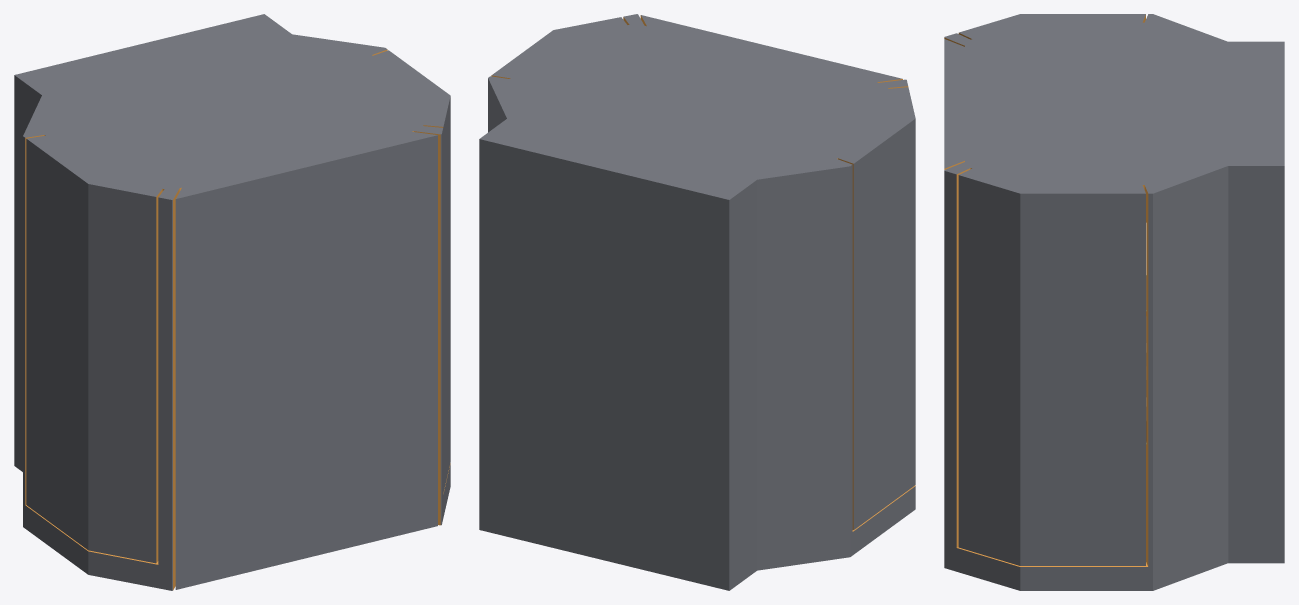
Rendered from octagon.glb.
3 views of the same model, side by side, from view 1: azimuth 30°, elevation 25°; view 2: azimuth 150°, elevation 25°; view 3: azimuth 270°, elevation 25° (orthographic).
Parts seen in each view (by area): view 1: front, shell, wing_r, wing_l; view 2: shell, wing_r, front, wing_l; view 3: shell, wing_l, front, wing_r.
Part boxes in pixels (x1,y1,x2,y2): front: (175, 131, 437, 589); shell: (14, 14, 450, 590); wing_r: (26, 135, 162, 563); wing_l: (373, 50, 450, 492); shell: (479, 14, 915, 590); wing_r: (838, 87, 915, 529); front: (640, 15, 902, 82); wing_l: (491, 17, 627, 78); shell: (944, 14, 1284, 590); wing_l: (958, 168, 1145, 565); front: (944, 39, 964, 169); wing_r: (958, 14, 1145, 39).
Size of the model in its own units: 2.26 by 2.33 by 1.81.
